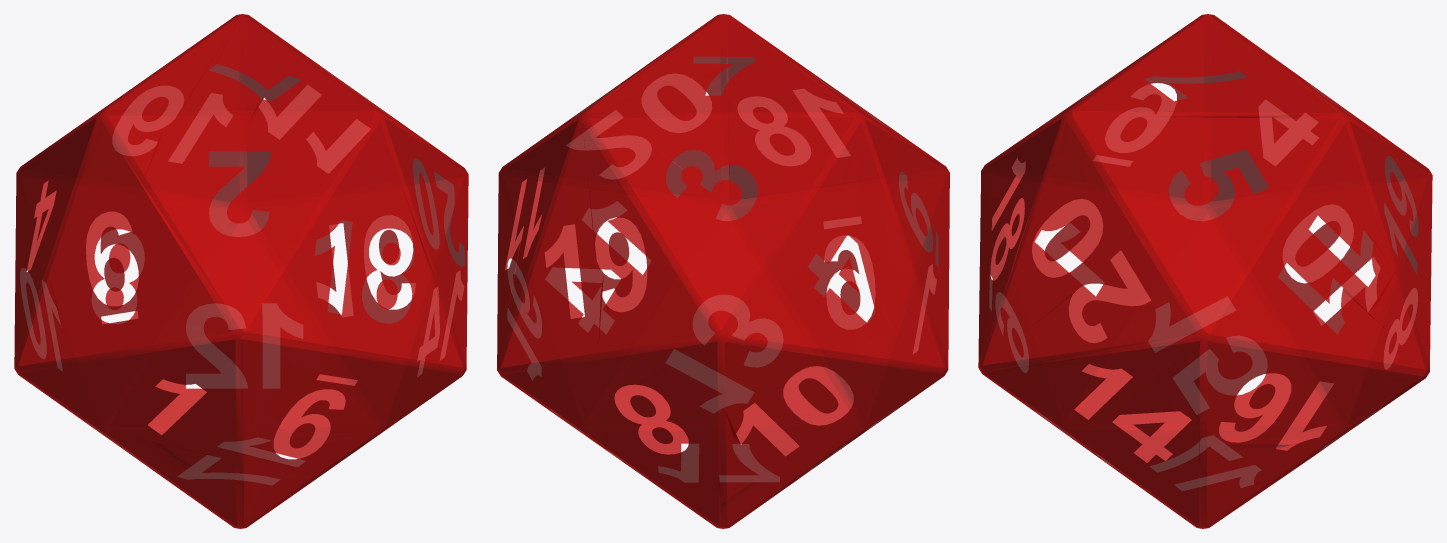
The model's file is d20_lowpoly.fbx.
3 views of the same model, side by side, from view 1: azimuth 30°, elevation 25°; view 2: azimuth 150°, elevation 25°; view 3: azimuth 270°, elevation 25° (orthographic).
Parts seen in each view (by area): view 1: 20_Sided; view 2: 20_Sided; view 3: 20_Sided.
Part boxes in pixels (<box>): 20_Sided: <box>14,14,468,528</box>; 20_Sided: <box>497,14,949,528</box>; 20_Sided: <box>978,14,1432,528</box>.
Bounding box in the file's own units: 12.8 × 10.56 × 11.24.
